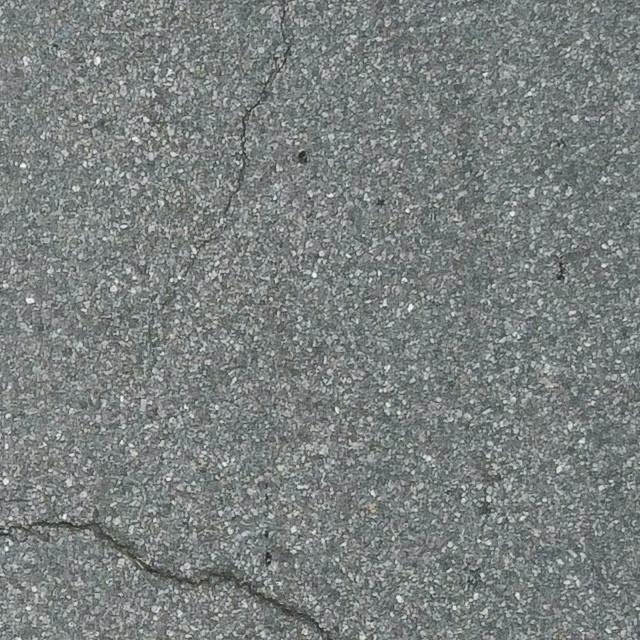TransverseCrack: (1, 518, 334, 639)
